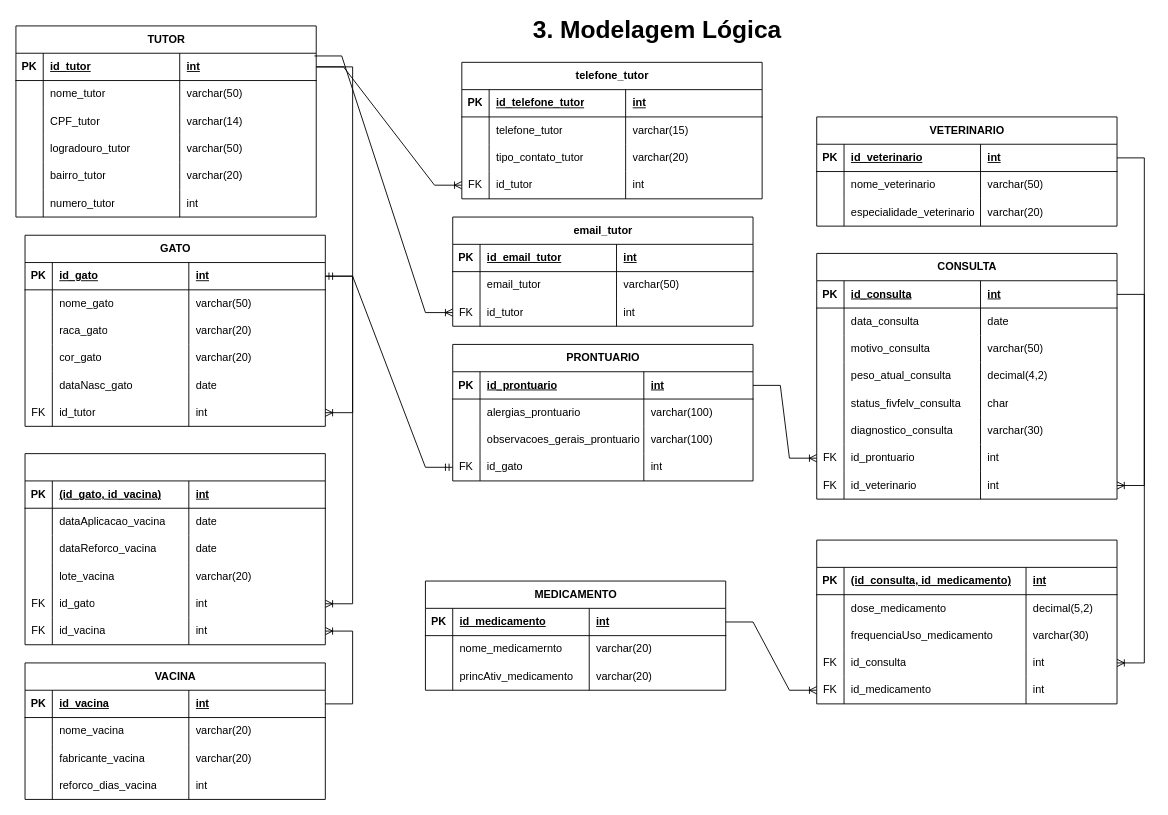
Image size: 1168x815. Some labels were removed from this diagram. Each missing label, with the box of its shape:
CONSULTA-MEDICAMENTO: (816, 539, 1117, 704)
GATO-VACINA: (24, 453, 325, 645)
